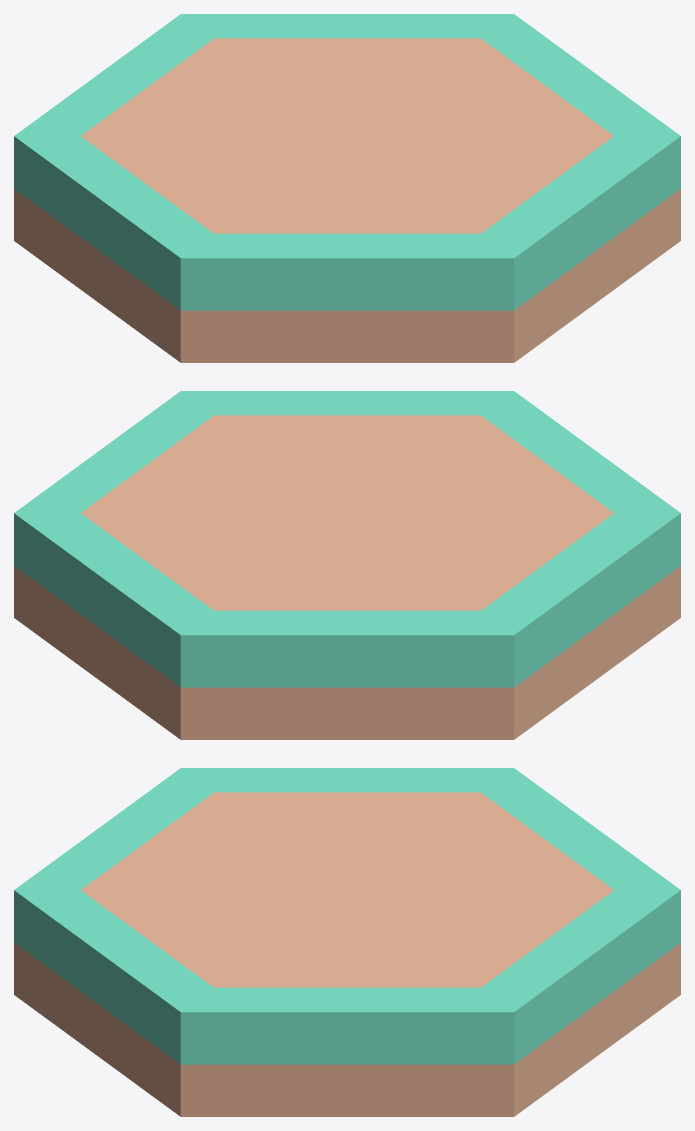
Rendered from FertileCell.fbx.
3 views of the same model, one above another, from view 1: azimuth 30°, elevation 25°; view 2: azimuth 150°, elevation 25°; view 3: azimuth 270°, elevation 25° (orthographic).
Visible parts, largest first — view 1: farm_empty; view 2: farm_empty; view 3: farm_empty.
Part boxes in pixels (left/top/right/bottom): farm_empty: left=14, top=14, right=680, bottom=362; farm_empty: left=14, top=391, right=680, bottom=739; farm_empty: left=14, top=768, right=680, bottom=1116.
Bounding box in the file's own units: 100 × 20 × 115.
